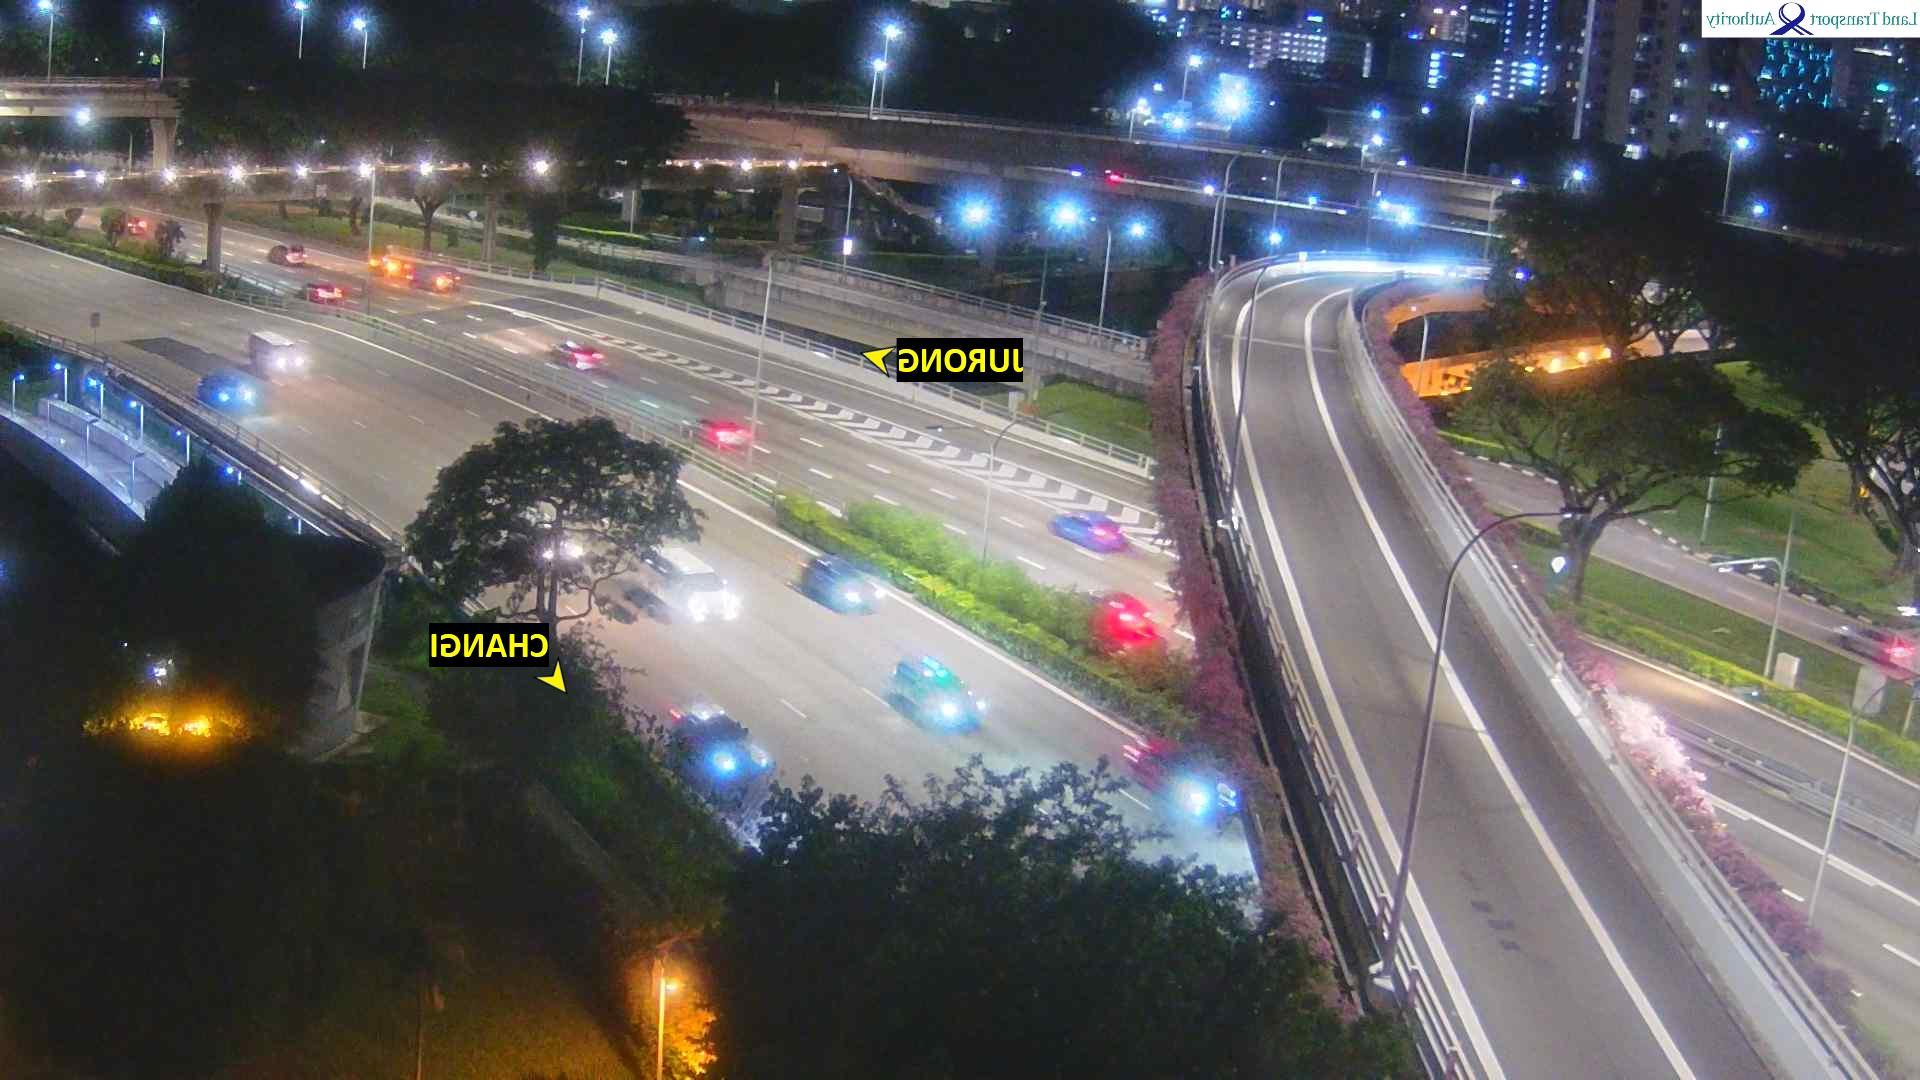incoming: (703, 718, 766, 804), (926, 672, 994, 736), (670, 570, 740, 625), (825, 565, 890, 616), (213, 379, 255, 412), (271, 342, 308, 379)
